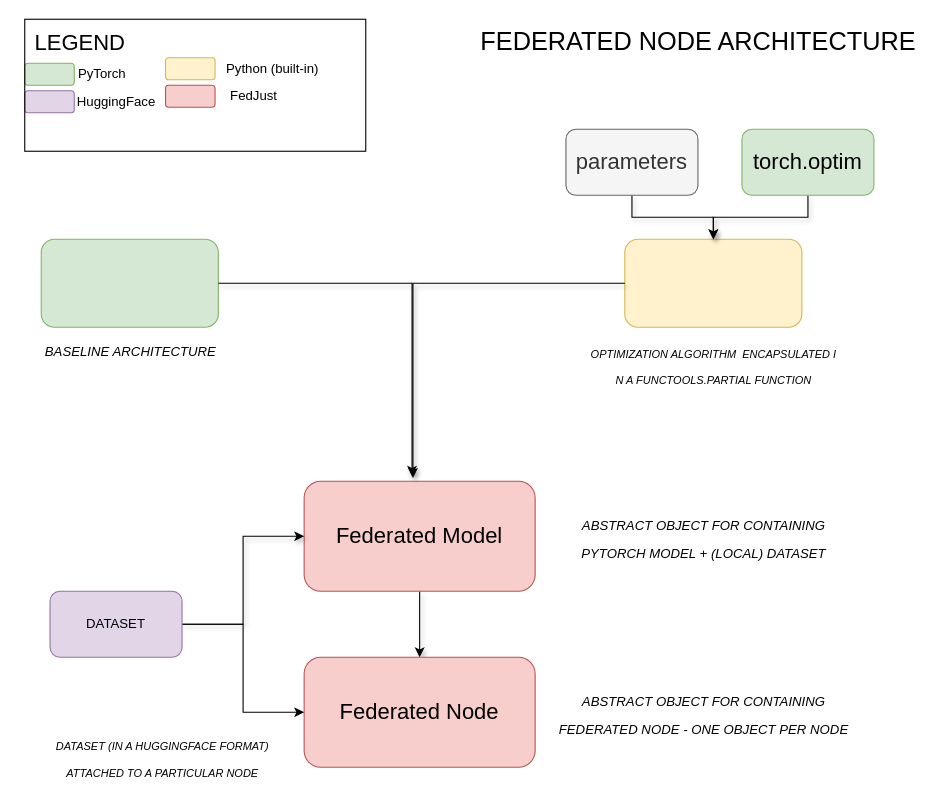
Some shapes in this 947 by 809 pixel diagram are drawn without their labels. Here are the shapes that lost their labels. From the top down, the centre of each, then its label:
point (129, 282): torch.nn
point (713, 282): functools.partial
